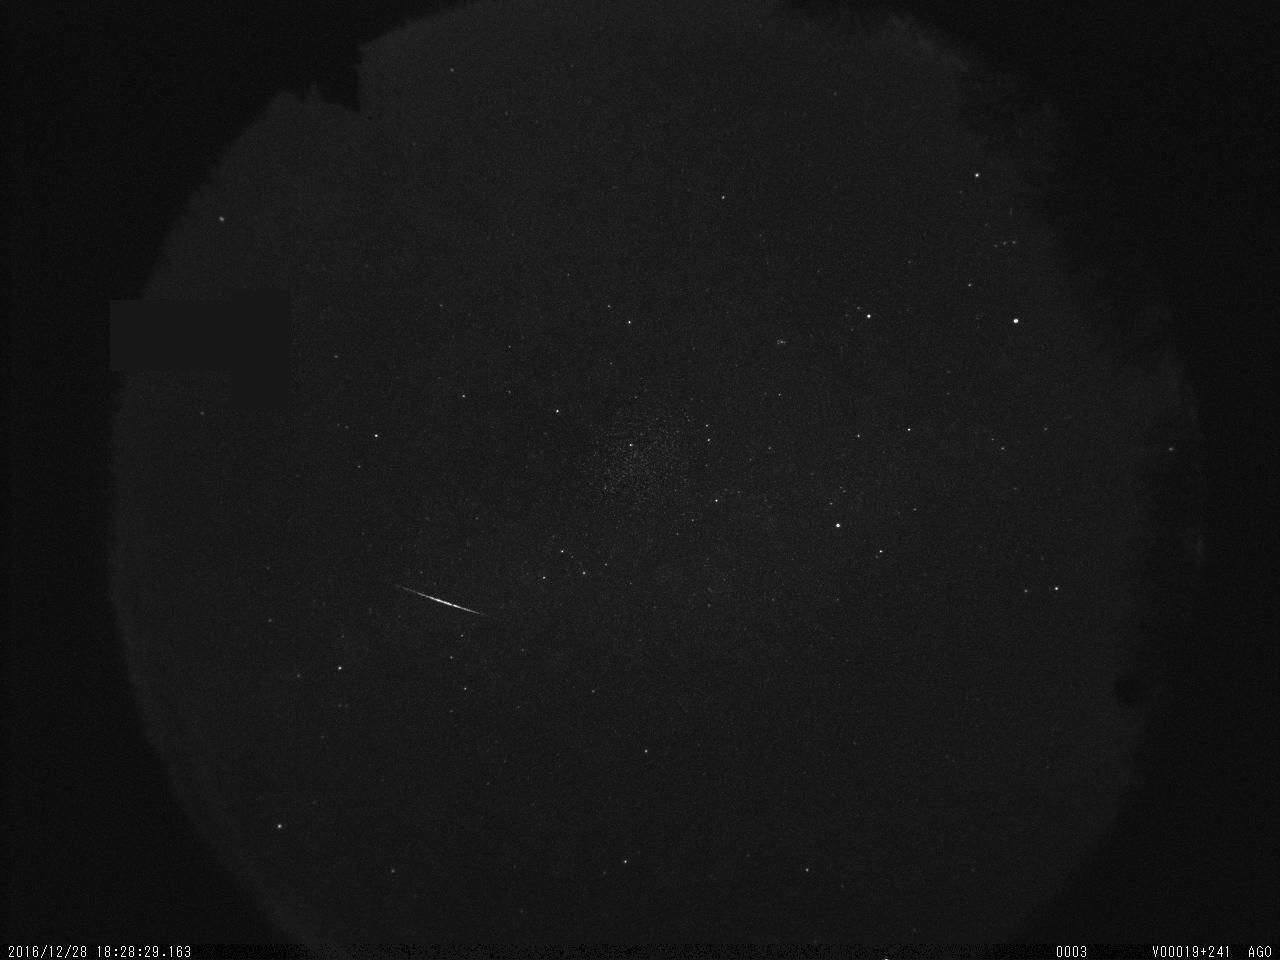meteor: (385, 568, 503, 624)
